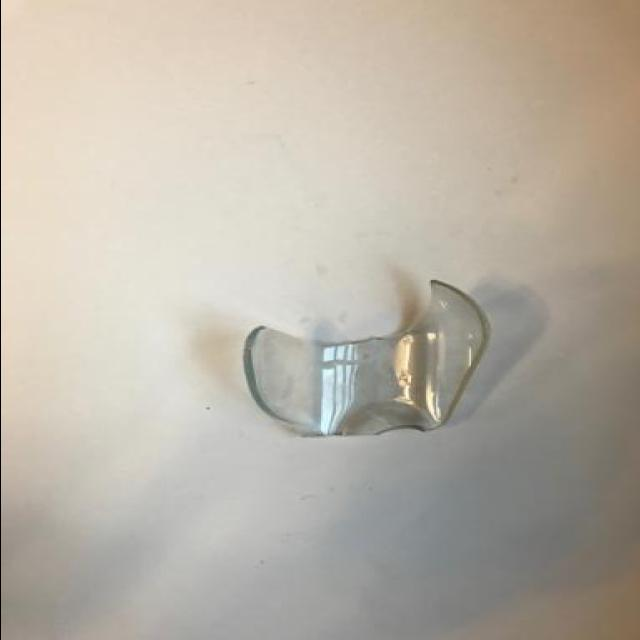litter: (217, 274, 493, 454)
